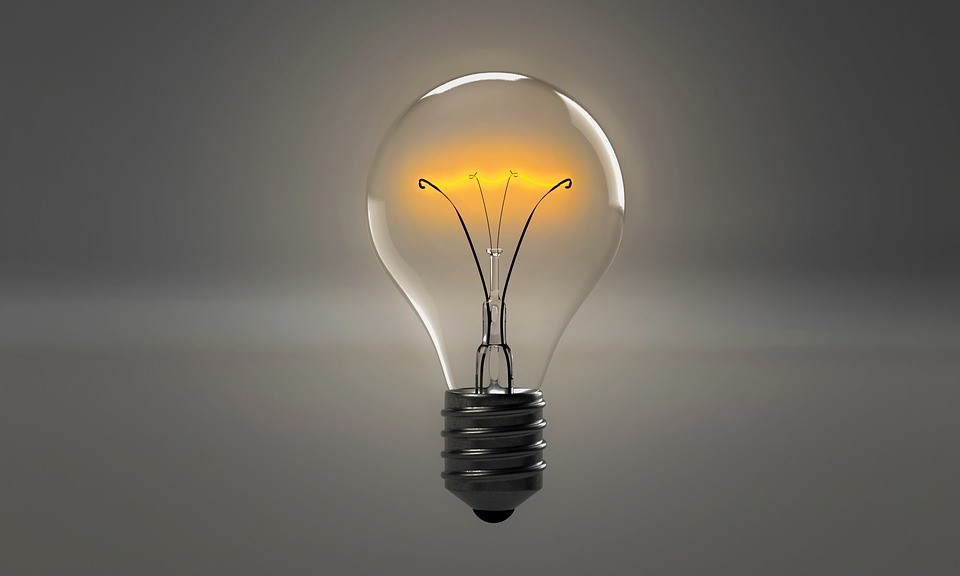Light_bulb: (358, 64, 633, 527)
